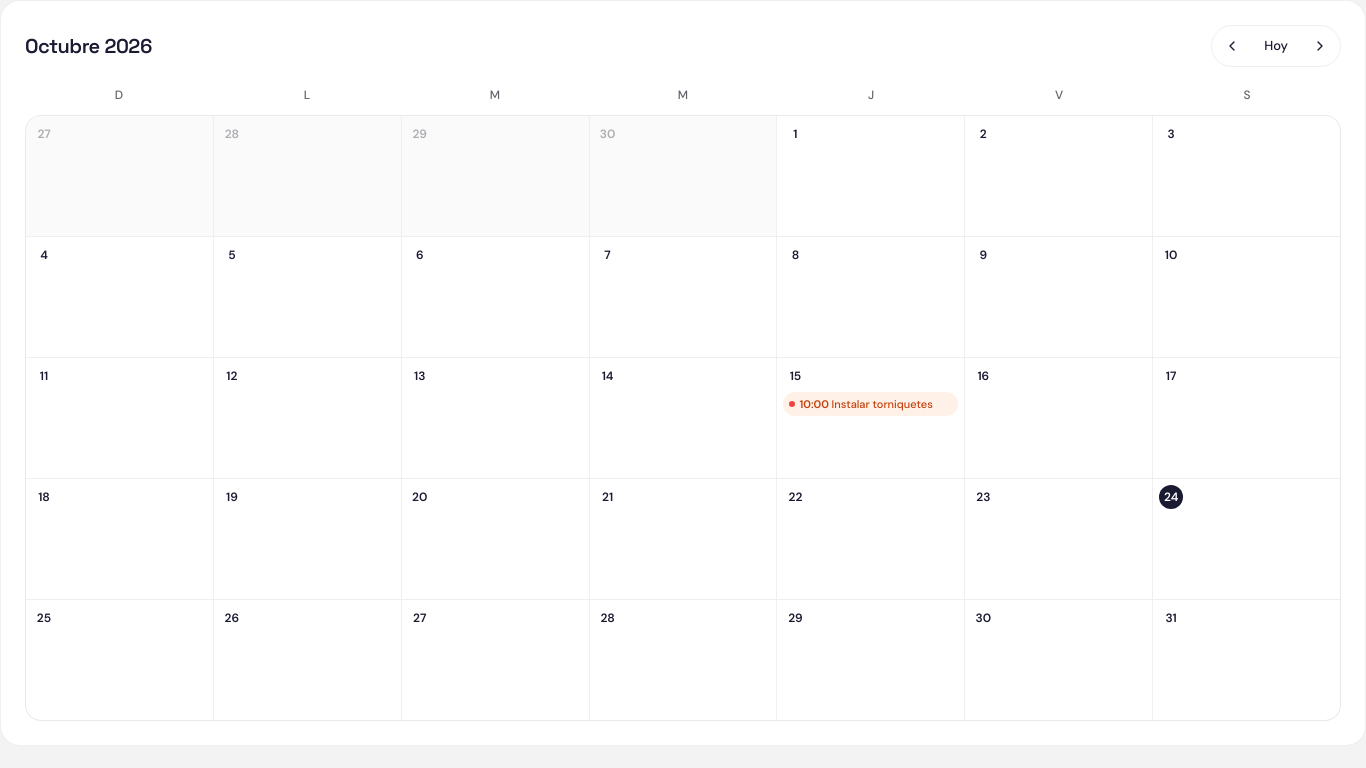
Scenario: TeamCalendar › muestra los eventos del día al hacer click en la celda
The image size is (1366, 768).
Click the button "15 10:00 Instalar torniquetes" at [871, 418], box [777,358,964,478]
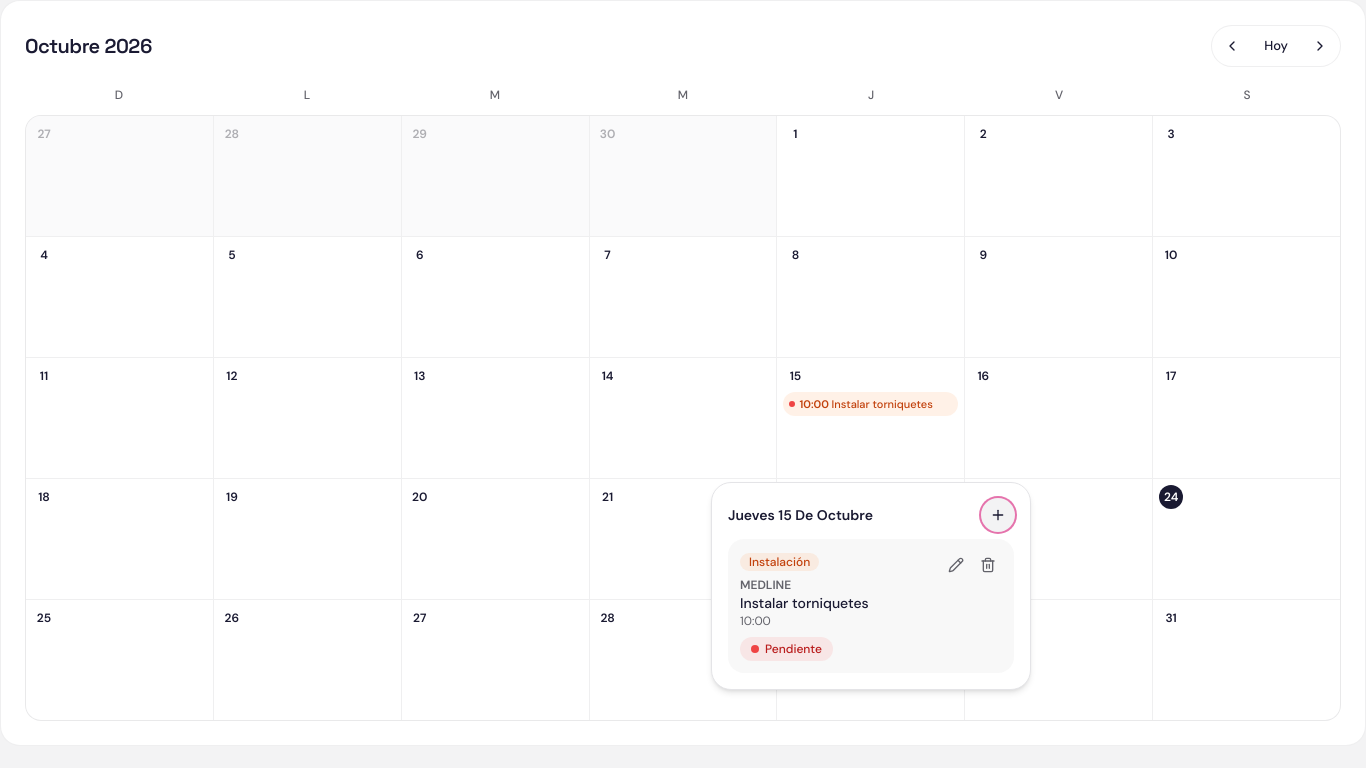
Check: the text "Instalar torniquetes" is shown, box [740,593,869,613]
Check: the text "MEDLINE" is shown, box [740,577,791,593]
Check: the button "Pendiente" is shown, box [740,637,833,661]
